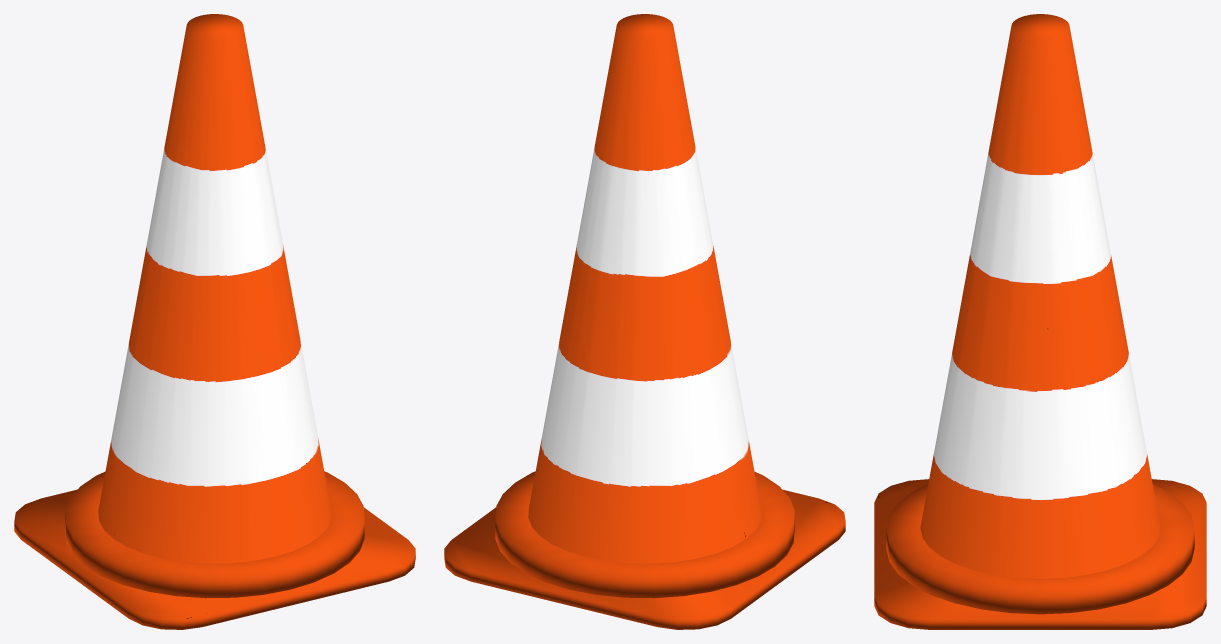
The model's file is BigOrangeCone.dae.
The picture shows the model from 3 angles, left to right: view 1: azimuth 30°, elevation 25°; view 2: azimuth 150°, elevation 25°; view 3: azimuth 270°, elevation 25°; orthographic projection. The views are drawn at different scales.
Visible parts, largest first — view 1: Cylinder; view 2: Cylinder; view 3: Cylinder.
Boxes of the visible parts, <box> form: Cylinder: <box>14,14,415,629</box>; Cylinder: <box>444,14,845,629</box>; Cylinder: <box>874,14,1206,629</box>.
Size of the model in its own units: 0.285 by 0.285 by 0.505.
Materials: 1 (1 with a texture image).
